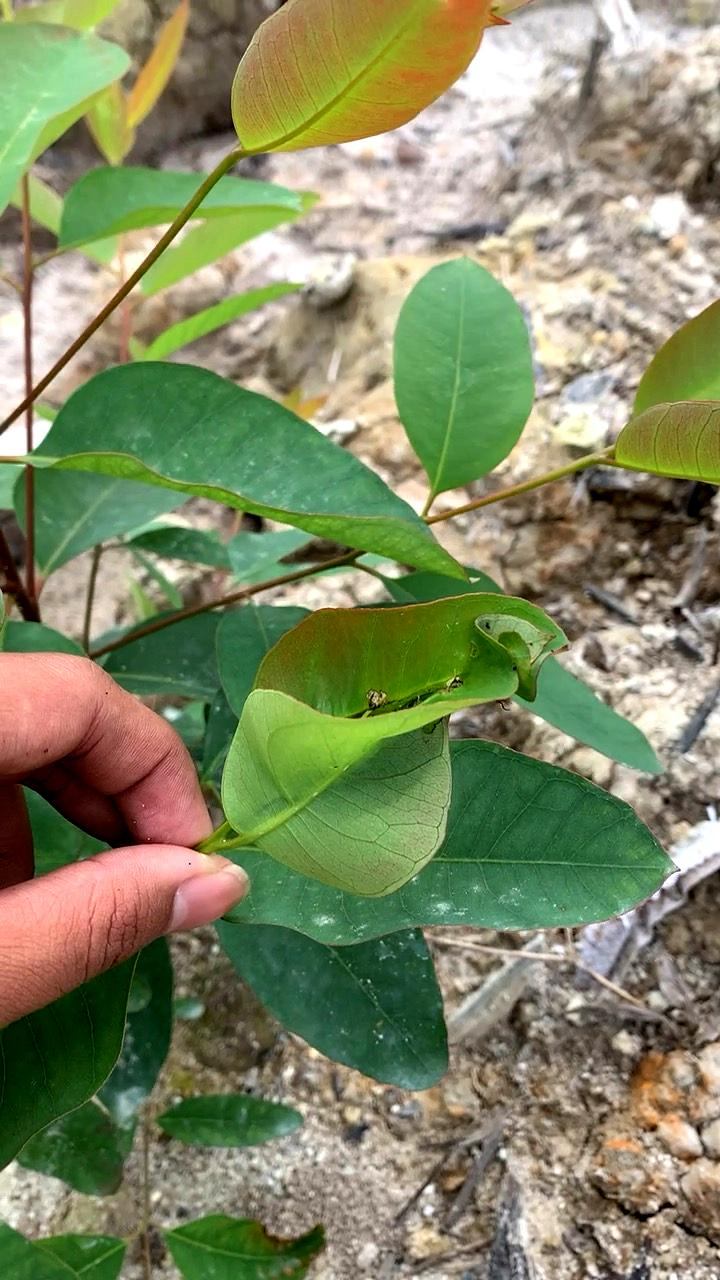Leaf Roller - Leaf: (200, 576, 567, 904)
